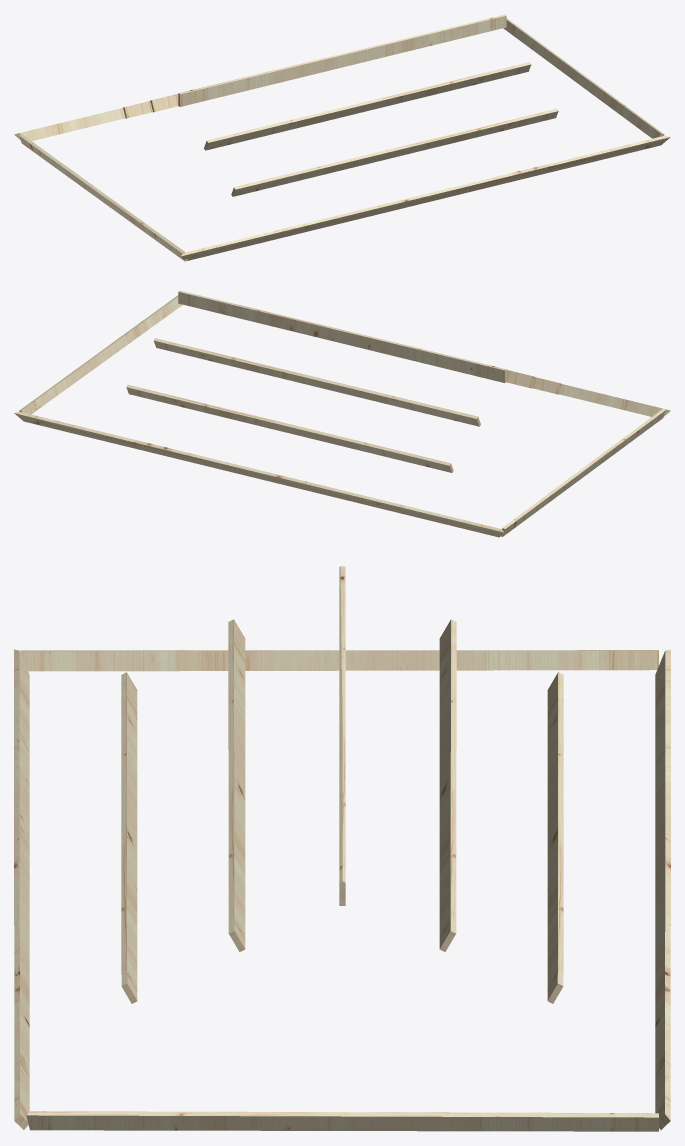
3 renders of one model, top to bottom at view 1: azimuth 30°, elevation 25°; view 2: azimuth 150°, elevation 25°; view 3: azimuth 270°, elevation 25°, orthographic. The views are drawn at different scales.
Size of the model in its own units: 7620 by 1345 by 4488.
